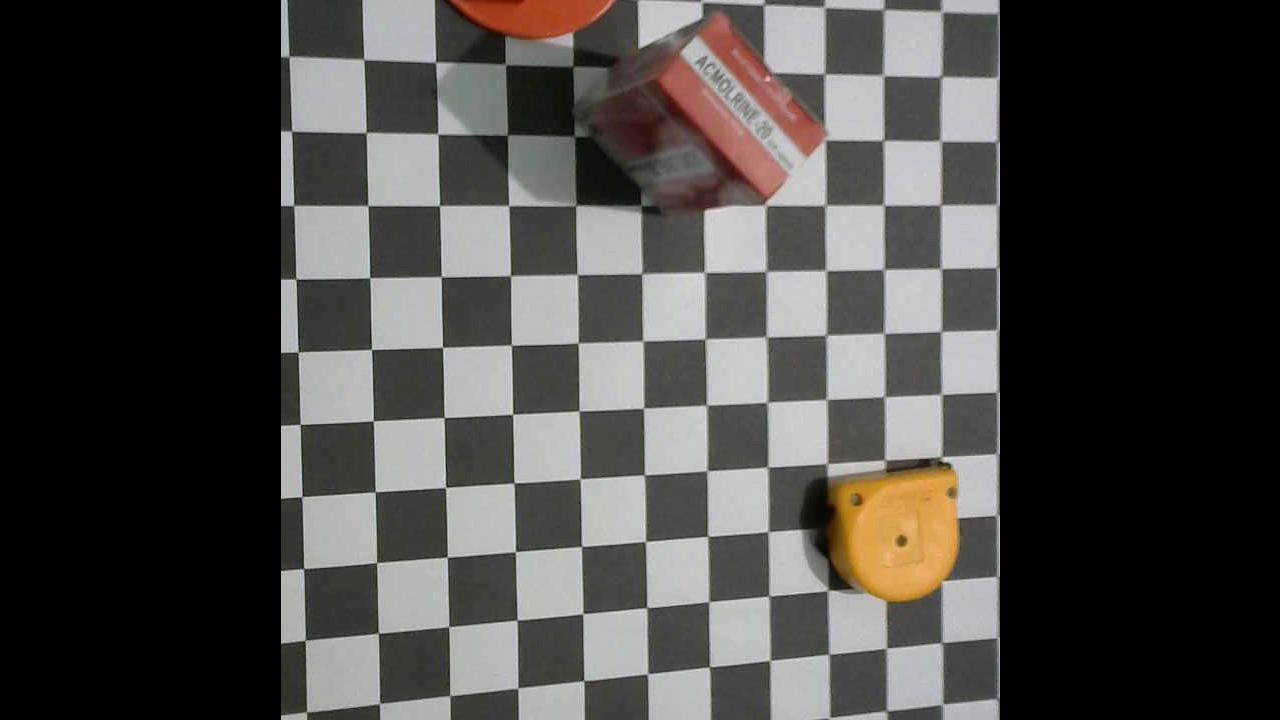blue: (819, 463, 963, 600)
red: (573, 11, 824, 222)
